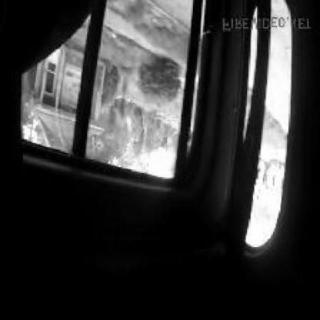other: (127, 149, 181, 177)
